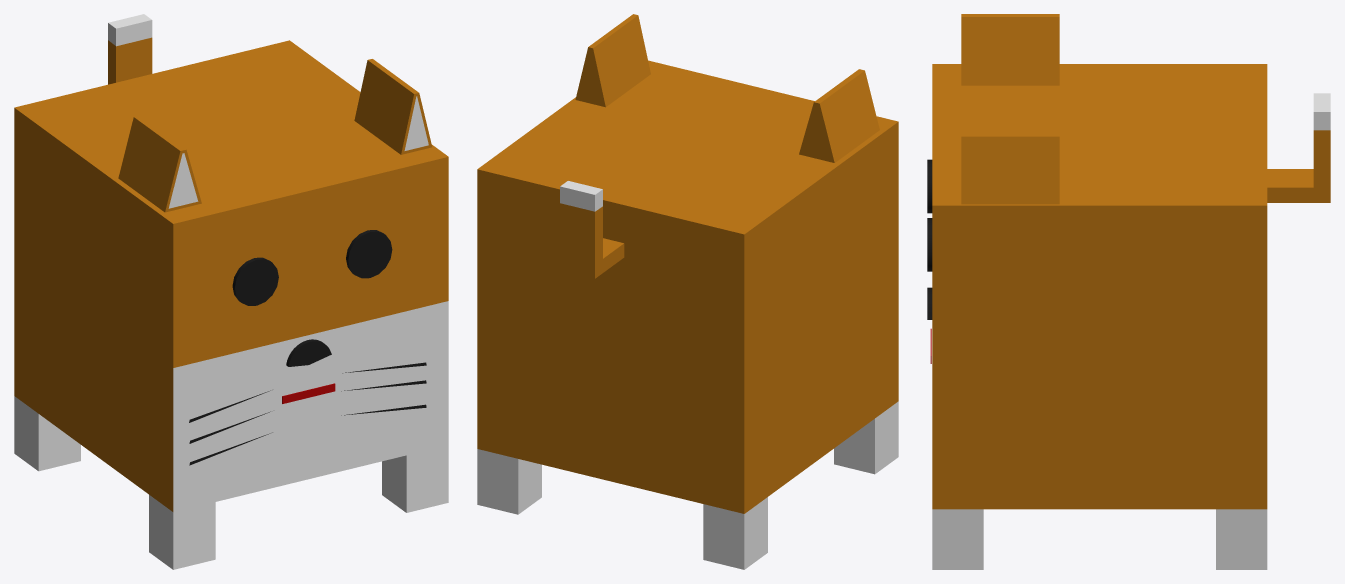
The model's file is Cat.FBX.
3 views of the same model, side by side, from view 1: azimuth 30°, elevation 25°; view 2: azimuth 150°, elevation 25°; view 3: azimuth 270°, elevation 25° (orthographic). The views are drawn at different scales.
Visible parts, largest first — view 1: cat; view 2: cat; view 3: cat.
Boxes of the visible parts, left/top/right/bottom form: cat: left=14, top=14, right=448, bottom=569; cat: left=477, top=14, right=898, bottom=569; cat: left=927, top=14, right=1330, bottom=569.
Size of the model in its own units: 9.05 by 12.67 by 10.9.
Materials: 1 (1 with a texture image).
